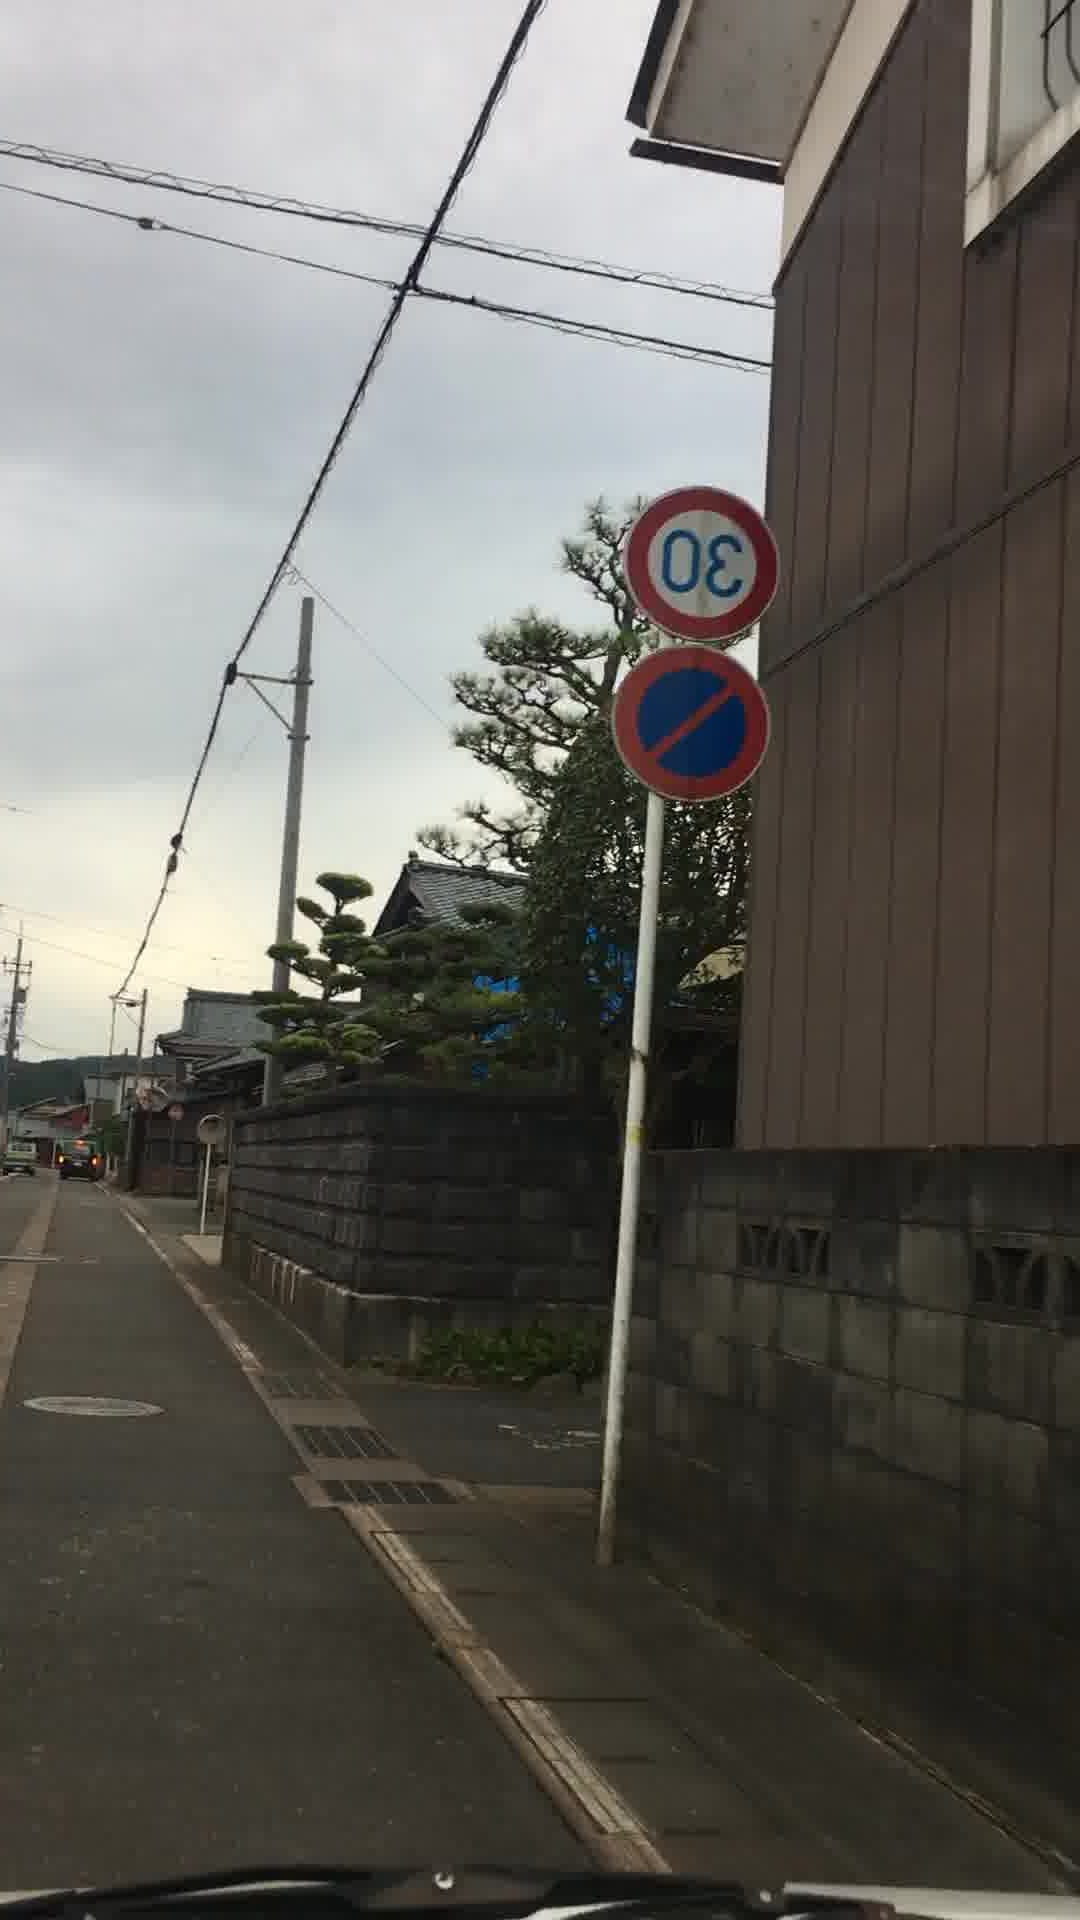Prohibition_sign: (620, 654, 793, 824)
Speed_sign: (604, 460, 775, 647)
